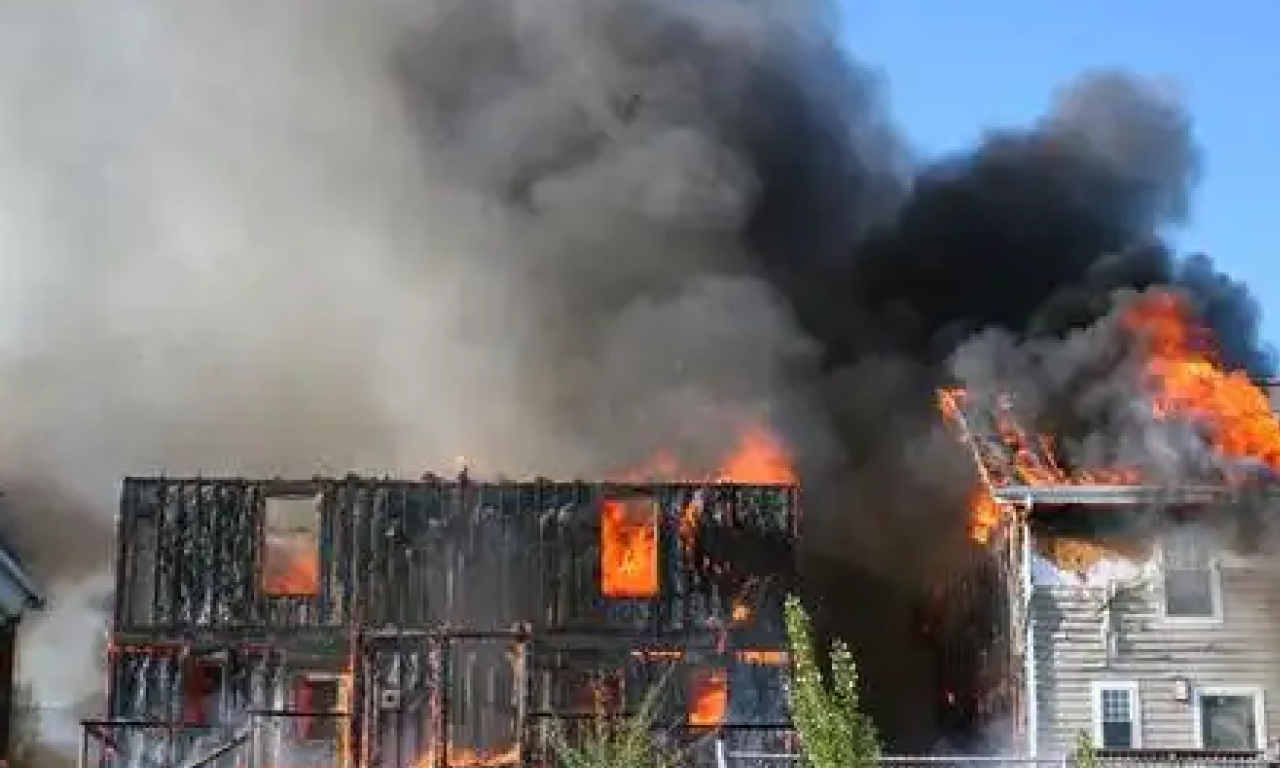fire: (30, 21, 1264, 738)
